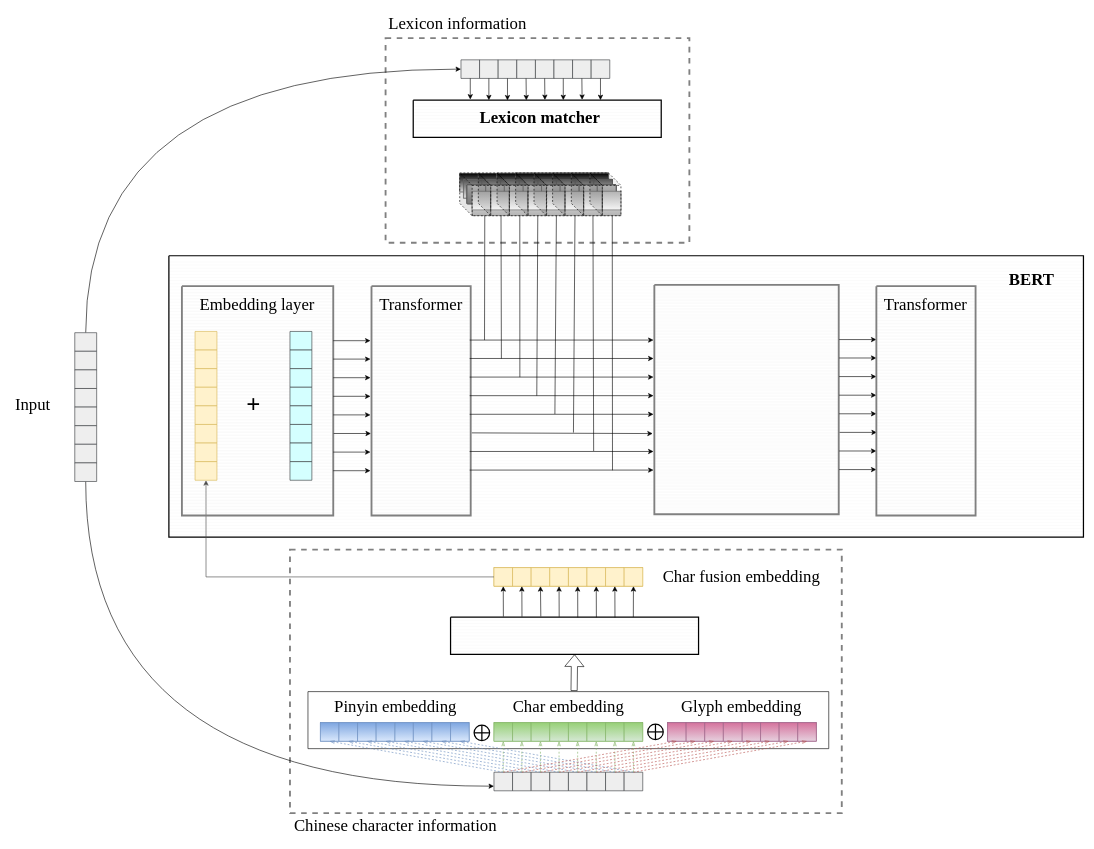
Image size: 1094x849. Some labels were removed from this diagram. Each missing label, with the centre of its shape:
"Fusion layer" goes at pixel 574 635.
"Lexicon adapter layer" goes at pixel 746 399.
